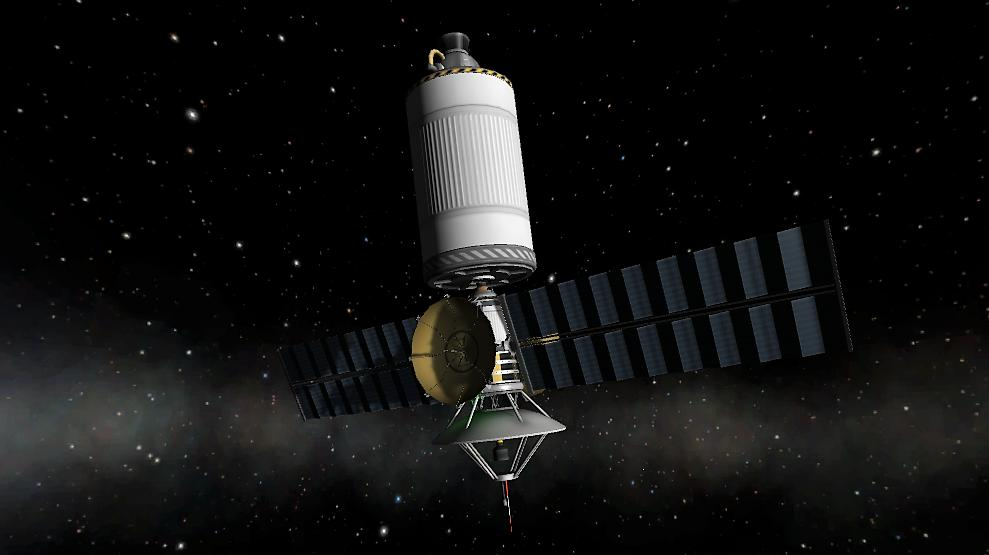antenna: (429, 405, 569, 537), (406, 291, 499, 410)
body: (402, 64, 541, 295), (465, 298, 528, 398)
solar: (497, 215, 858, 397), (273, 312, 448, 424)
thruster: (434, 27, 473, 54)
